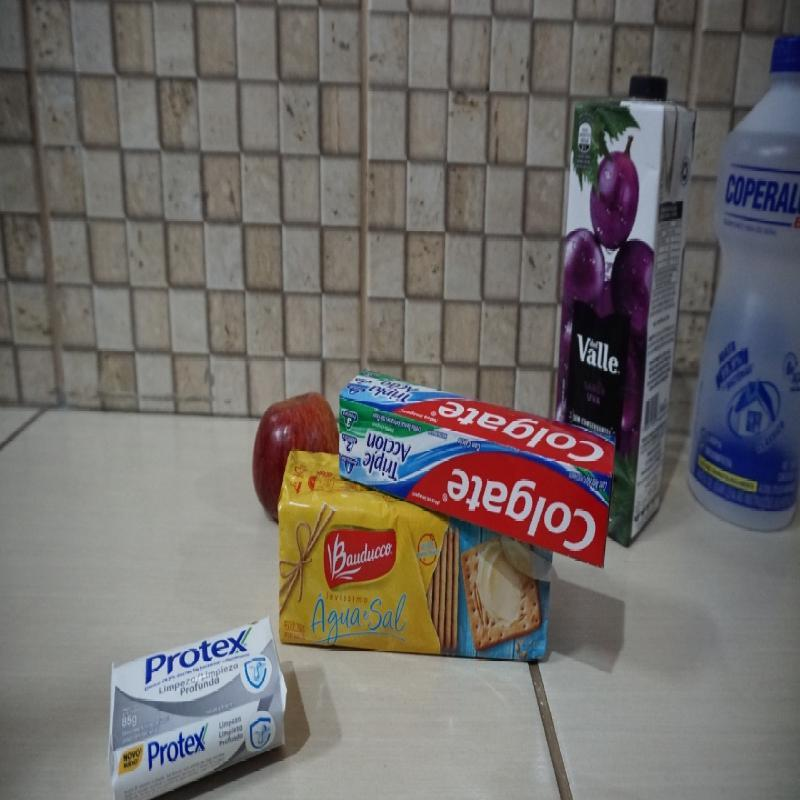Alcohol Bottle: (686, 34, 800, 535)
Apple: (253, 389, 340, 522)
Cracker: (274, 445, 554, 665)
Soap: (106, 617, 290, 794)
Toothpaste: (338, 367, 620, 569)
